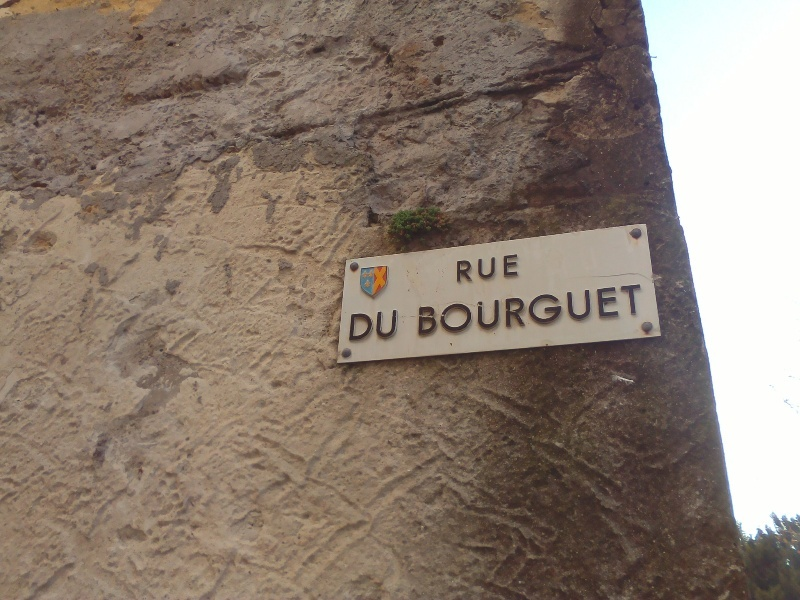text: (417, 282, 432, 339), (433, 282, 448, 339), (449, 282, 464, 339), (465, 282, 480, 339), (481, 282, 496, 339), (497, 282, 512, 339), (513, 282, 528, 339), (529, 282, 544, 339), (545, 282, 560, 339), (561, 282, 576, 339), (577, 282, 592, 339), (593, 282, 608, 339), (609, 282, 624, 339), (625, 282, 640, 339), (353, 308, 368, 342), (369, 308, 384, 342), (385, 308, 399, 342), (465, 254, 480, 283), (481, 254, 496, 283), (497, 254, 512, 283), (641, 282, 645, 339), (457, 254, 464, 283), (513, 254, 519, 283)
